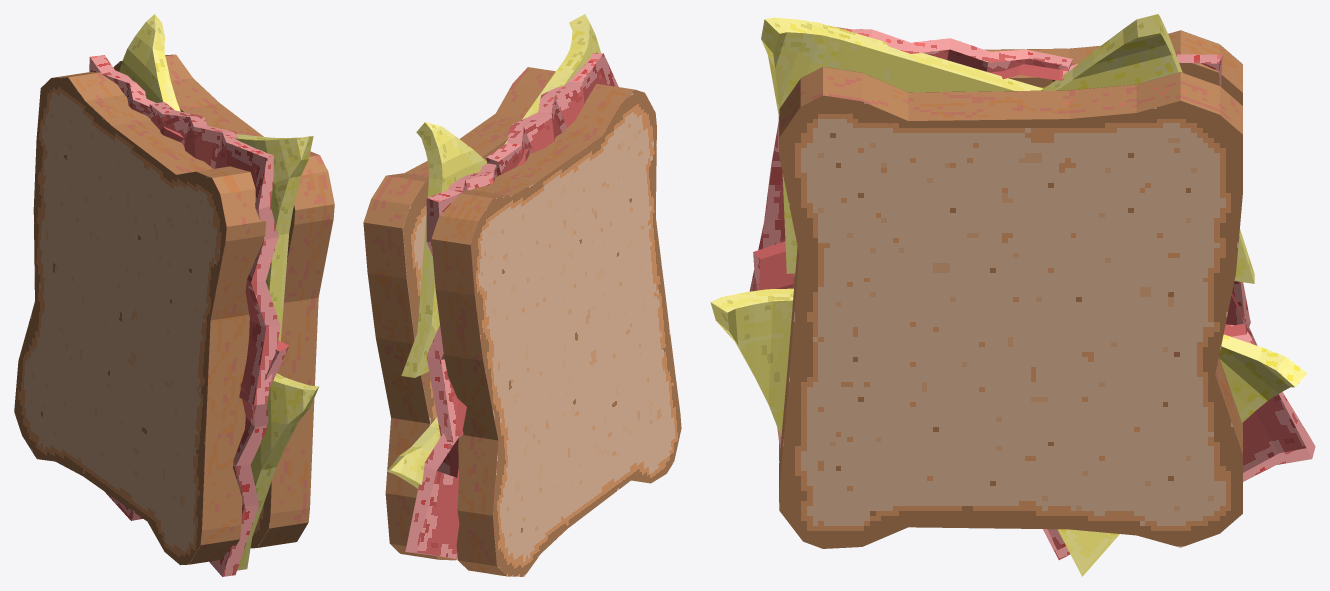
File: sandwich.glb
3 views of the same model, side by side, from view 1: azimuth 30°, elevation 25°; view 2: azimuth 150°, elevation 25°; view 3: azimuth 270°, elevation 25° (orthographic). The views are drawn at different scales.
Parts seen in each view (by area): view 1: pan_0, pan_1, lechuga_8, queso_3, queso_2, lechuga_9, queso_5, lechuga_7; view 2: pan_0, pan_1, lechuga_10, queso_5, lechuga_8, lechuga_7, queso_3, queso_4; view 3: pan_1, queso_3, queso_2, queso_5, queso_4, lechuga_8, lechuga_10, pan_0, lechuga_7, lechuga_9.
Boxes of the visible parts, box(x1,y1,x2,y2) form: pan_0: box(14, 72, 266, 565); pan_1: box(113, 54, 334, 548); lechuga_8: box(149, 102, 280, 405); queso_3: box(235, 134, 313, 341); queso_2: box(237, 373, 319, 570); lechuga_9: box(200, 340, 289, 576); queso_5: box(119, 14, 180, 111); lechuga_7: box(87, 55, 183, 166); pan_0: box(431, 84, 681, 576); pan_1: box(363, 67, 555, 560); lechuga_10: box(405, 307, 498, 559); queso_5: box(401, 122, 486, 377); lechuga_8: box(486, 53, 620, 187); lechuga_7: box(426, 147, 529, 442); queso_3: box(504, 14, 600, 144); queso_4: box(387, 417, 502, 575); pan_1: box(779, 67, 1242, 548); queso_3: box(761, 17, 1043, 273); queso_2: box(710, 288, 793, 436); queso_5: box(1041, 14, 1254, 283); queso_4: box(1057, 334, 1307, 576); lechuga_8: box(749, 29, 1072, 291); lechuga_10: box(1043, 293, 1315, 559); pan_0: box(779, 27, 1242, 460); lechuga_7: box(990, 54, 1250, 336); lechuga_9: box(753, 241, 795, 448).
Size of the model in its own units: 0.5487 by 1.76 by 1.65.
1 material, 1 textured.
